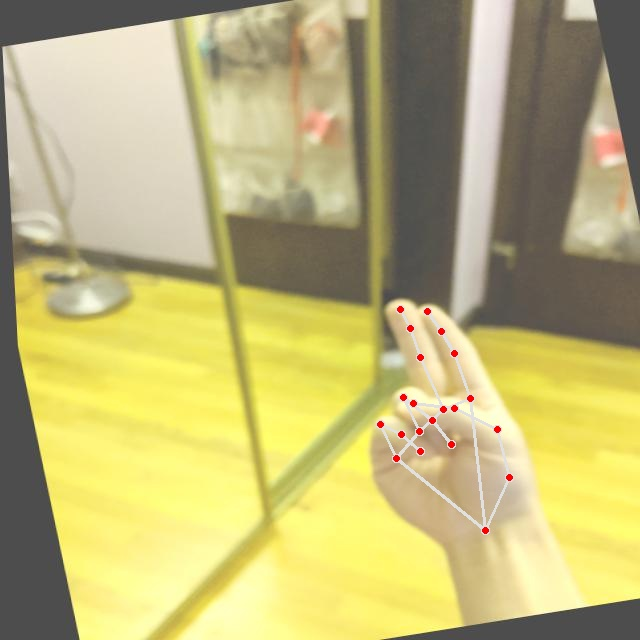U: (323, 278, 552, 564)
